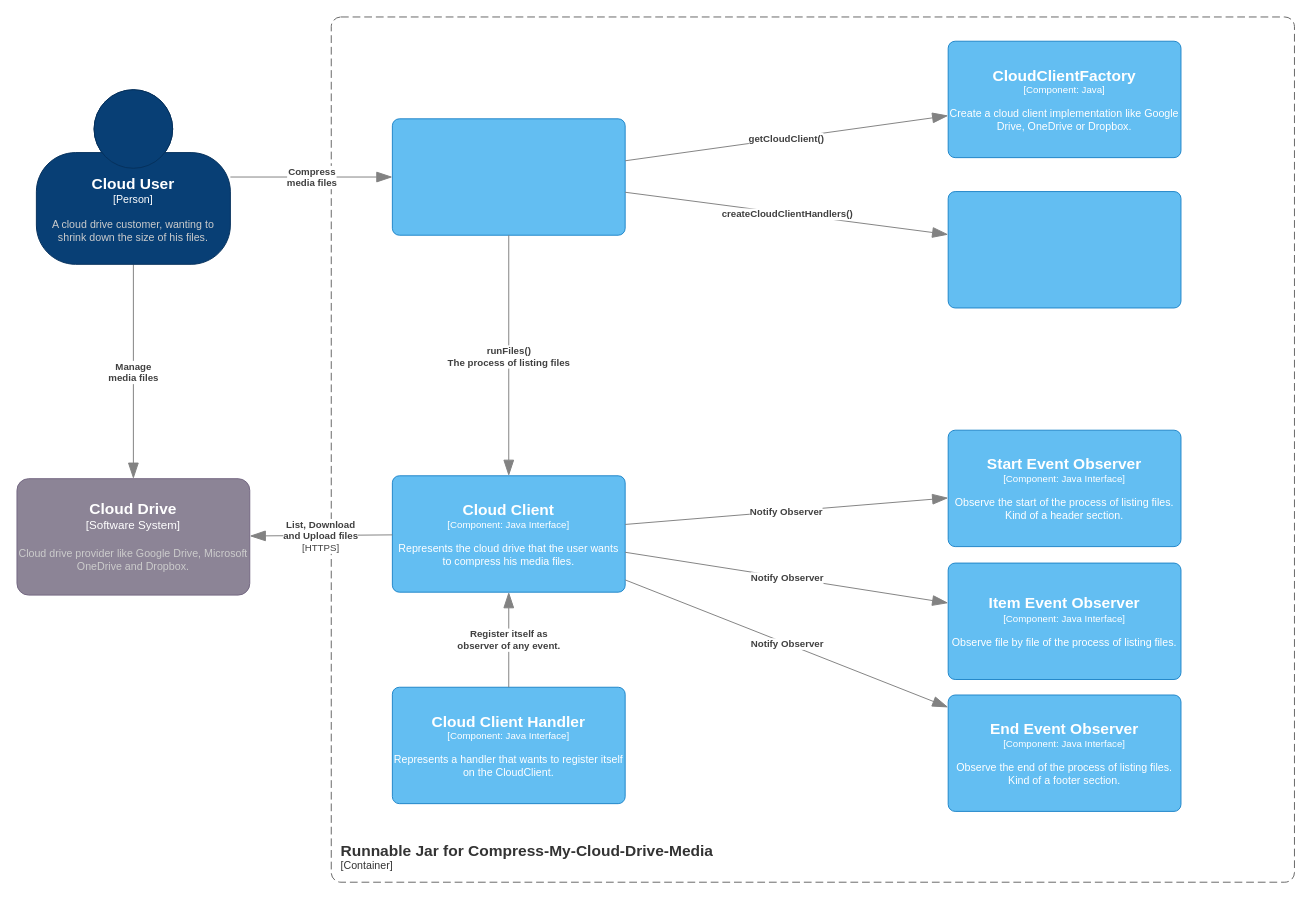
This 1311x899 diagram has some shape labels left out. The shapes that lost their labels are listed below. From the top down, each one's centre as x and y in pixels, then its label:
At (x=508, y=176): "Main [Component: Java]".
At (x=1064, y=249): "HandlerFactory [Component: Java] Create handlers according to user goals".
